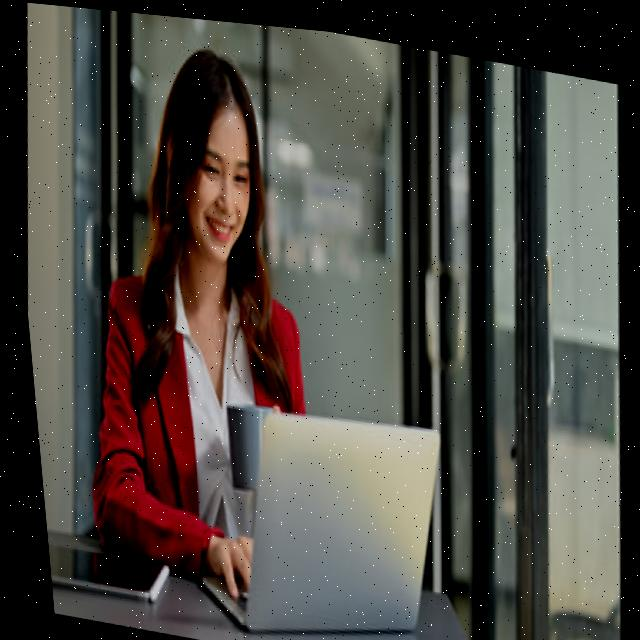notebook-person: (29, 3, 495, 640)
